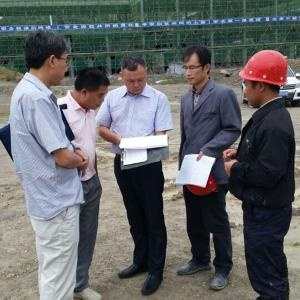none: (21, 28, 69, 87), (73, 65, 108, 109), (119, 51, 149, 94), (181, 44, 211, 87)
red: (239, 48, 288, 108)
